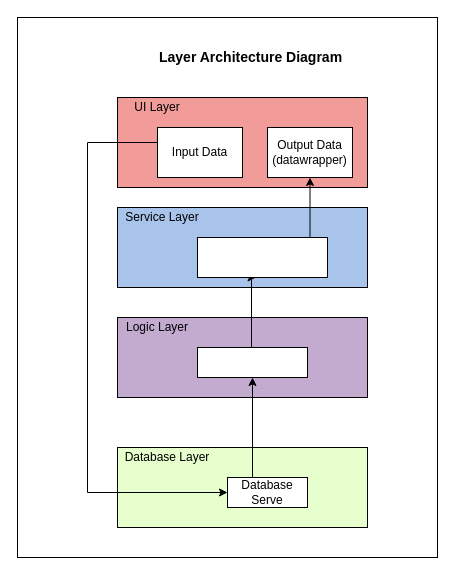
Image size: 455x575. Some labels were removed from this diagram. The centre of each missing label's shape, as x and y in pixels:
"Algorithm" belongs at (252,362).
"Validates with security policies" belongs at (262,257).
